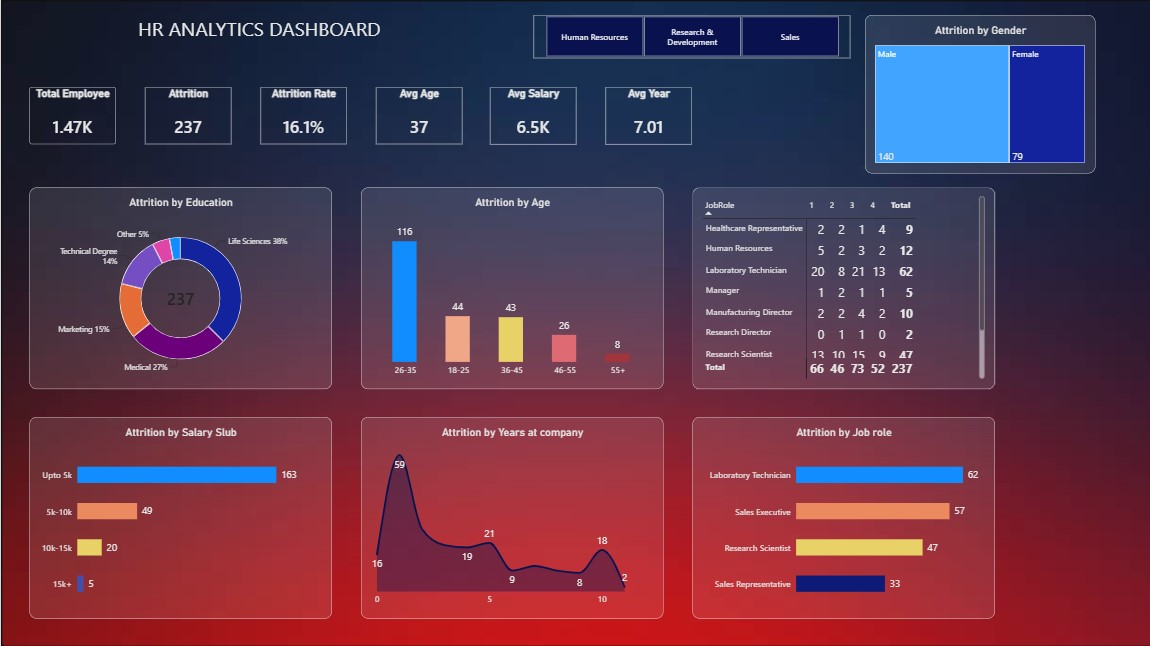

The dashboard page shown, as its layout file describes it:
{"tool":"powerbi","page":{"name":"Page 1","canvas":[1920,1080],"ordinal":0},"visuals":[{"type":"cardVisual","title":"Total Employee","fields":{"Data":["CountNonNull(HR_Analytics.EmpID)"]},"box":[48,144,144,95],"z":0},{"type":"cardVisual","title":"Attrition Rate","fields":{"Data":["HR_Analytics.Attritionrate"]},"box":[432,144,144,95],"z":1000},{"type":"cardVisual","title":"Avg Age","fields":{"Data":["Avg(HR_Analytics.Age)"]},"box":[624,144,144,95],"z":2000},{"type":"cardVisual","title":"Attrition","fields":{"Data":["Sum(HR_Analytics.AttitionCount)"]},"box":[240,144,144,95],"z":3000},{"type":"cardVisual","title":"Avg Salary","fields":{"Data":["Avg(HR_Analytics.MonthlyIncome)"]},"box":[816,144,144,96],"z":4000},{"type":"cardVisual","title":"Avg Year","fields":{"Data":["Avg(HR_Analytics.YearsAtCompany)"]},"box":[1008,144,144,96],"z":5000},{"type":"donutChart","title":"Attrition by Education","fields":{"Category":["HR_Analytics.EducationField"],"Y":["Sum(HR_Analytics.AttitionCount)"]},"box":[48,312,504,336],"z":6000},{"type":"columnChart","title":"Attrition by Age","fields":{"Category":["HR_Analytics.AgeGroup"],"Y":["Sum(HR_Analytics.AttitionCount)"]},"box":[600,312,504,336],"z":7000},{"type":"pivotTable","fields":{"Columns":["HR_Analytics.JobSatisfaction"],"Rows":["HR_Analytics.JobRole"],"Values":["Sum(HR_Analytics.AttitionCount)"]},"box":[1152,312,504,336],"z":8000},{"type":"barChart","title":"Attrition by Salary Slub","fields":{"Category":["HR_Analytics.SalarySlab"],"Y":["Sum(HR_Analytics.AttitionCount)"]},"box":[48,696,504,336],"z":9000},{"type":"barChart","title":"Attrition by Job role","fields":{"Category":["HR_Analytics.JobRole"],"Y":["Sum(HR_Analytics.AttitionCount)"]},"box":[1152,696,504,336],"z":10000},{"type":"areaChart","title":"Attrition by Years at company","fields":{"Category":["HR_Analytics.YearsAtCompany"],"Y":["Sum(HR_Analytics.AttitionCount)"]},"box":[600,696,504,336],"z":11000},{"type":"treemap","title":"Attrition by Gender","fields":{"Group":["HR_Analytics.Gender"],"Values":["Sum(HR_Analytics.AttitionCount)"]},"box":[1440,24,384,264],"z":11001},{"type":"slicer","fields":{"Values":["HR_Analytics.Department"]},"box":[888,24,528,72],"z":11002},{"type":"textbox","box":[96,24,672,72],"z":11004}]}

Visuals, with their boxes in screenshot pixels (x1, y1, x2, y2), scaled from the page's 1920x1080 canvas onto the 1150x646 screenshot:
"Total Employee" cardVisual: 29, 86, 115, 143
"Attrition Rate" cardVisual: 259, 86, 345, 143
"Avg Age" cardVisual: 374, 86, 460, 143
"Attrition" cardVisual: 144, 86, 230, 143
"Avg Salary" cardVisual: 489, 86, 575, 144
"Avg Year" cardVisual: 604, 86, 690, 144
"Attrition by Education" donutChart: 29, 187, 331, 388
"Attrition by Age" columnChart: 359, 187, 661, 388
pivotTable - HR_Analytics.JobSatisfaction x HR_Analytics.JobRole: 690, 187, 992, 388
"Attrition by Salary Slub" barChart: 29, 416, 331, 617
"Attrition by Job role" barChart: 690, 416, 992, 617
"Attrition by Years at company" areaChart: 359, 416, 661, 617
"Attrition by Gender" treemap: 862, 14, 1092, 172
slicer - HR_Analytics.Department: 532, 14, 848, 57
textbox: 58, 14, 460, 57
